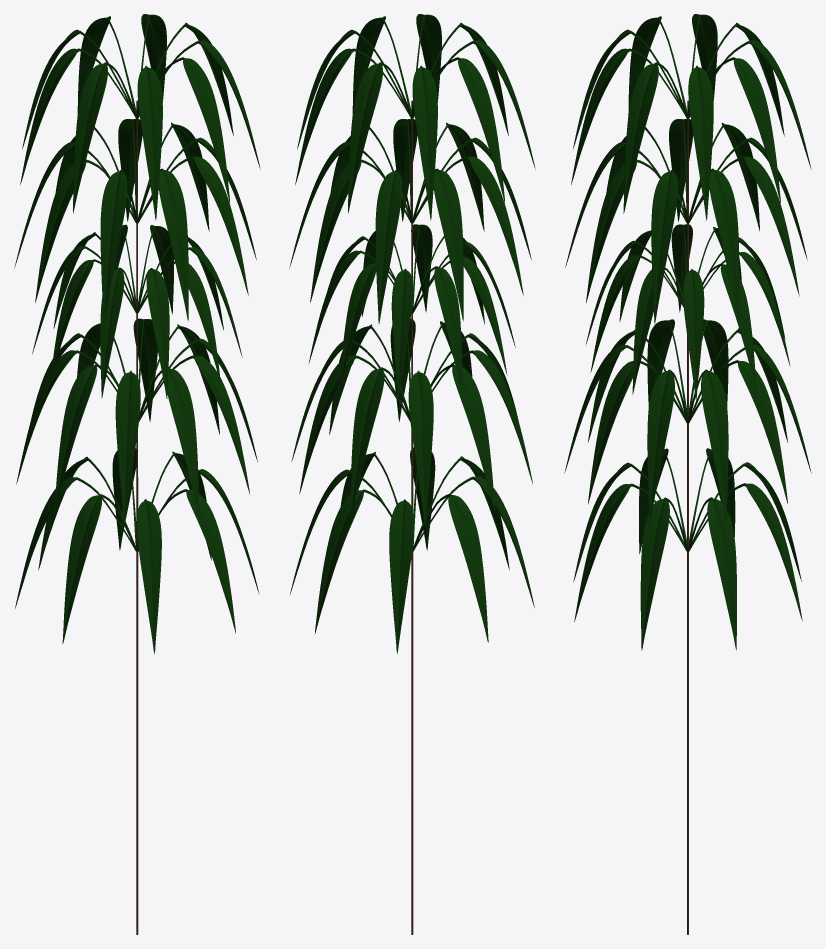
Rendered from plant1.fbx.
3 views of the same model, side by side, from view 1: azimuth 30°, elevation 25°; view 2: azimuth 150°, elevation 25°; view 3: azimuth 270°, elevation 25° (orthographic).
Parts seen in each view (by area): view 1: Circle.009, Circle.011, Circle.006, Circle.008, Circle.010, plant1; view 2: Circle.011, Circle.009, Circle.006, Circle.008, Circle.010, plant1; view 3: Circle.009, Circle.011, Circle.006, Circle.008, Circle.010, plant1.
Part boxes in pixels (x1,y1,x2,y2): Circle.009: (16, 318, 257, 525); Circle.011: (20, 14, 260, 220); Circle.006: (14, 118, 256, 323); Circle.008: (15, 448, 259, 654); Circle.010: (32, 224, 242, 398); plant1: (136, 100, 138, 934); Circle.011: (295, 14, 535, 220); Circle.009: (291, 319, 532, 525); Circle.006: (289, 118, 531, 323); Circle.008: (289, 447, 534, 653); Circle.010: (308, 224, 515, 400); plant1: (411, 100, 413, 934); Circle.009: (564, 319, 811, 523); Circle.011: (571, 14, 811, 220); Circle.006: (565, 118, 807, 324); Circle.008: (573, 448, 802, 650); Circle.010: (585, 224, 790, 401); plant1: (687, 101, 688, 934).
Size of the model in its own units: 56.22 by 226 by 56.63.
